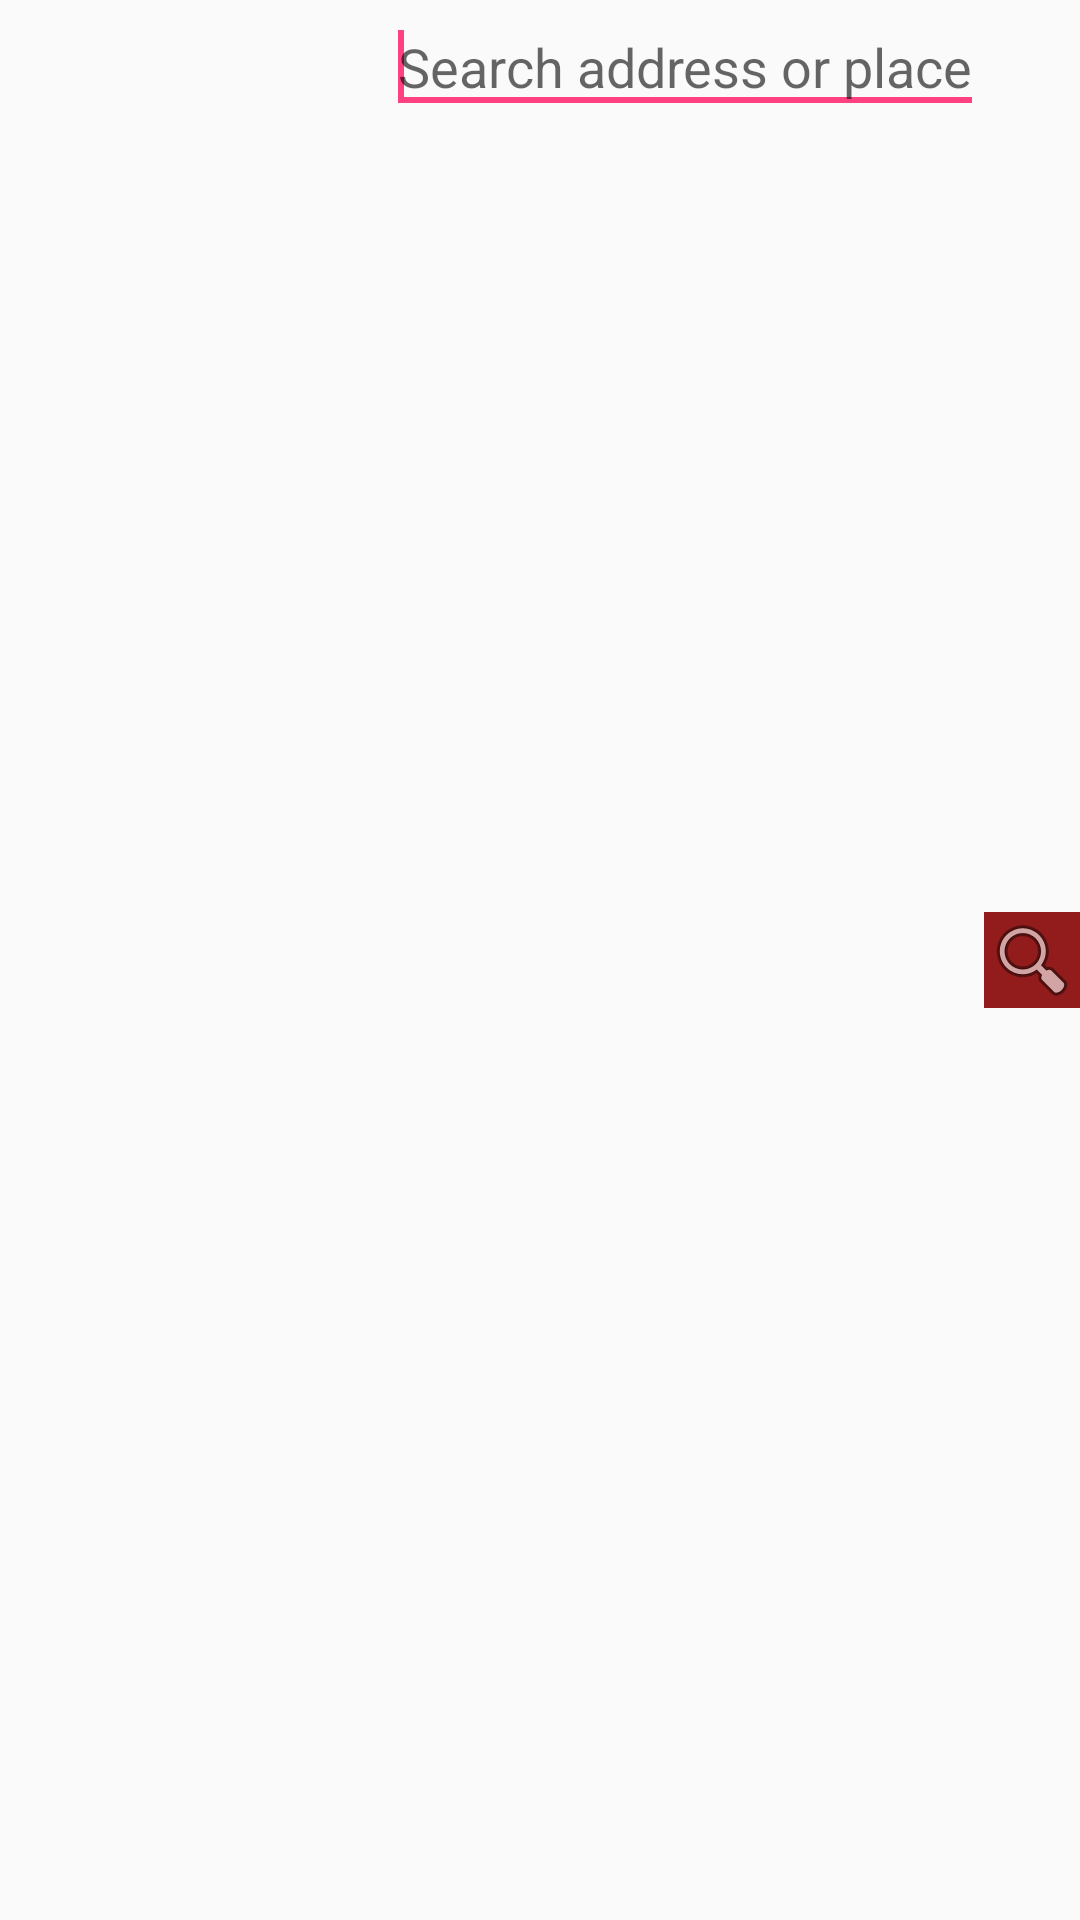

Screen size 1080 × 1920. Icon name, then its box in pixels as (x1, y1, x2, y2):
Search: (984, 912, 1080, 1008)
